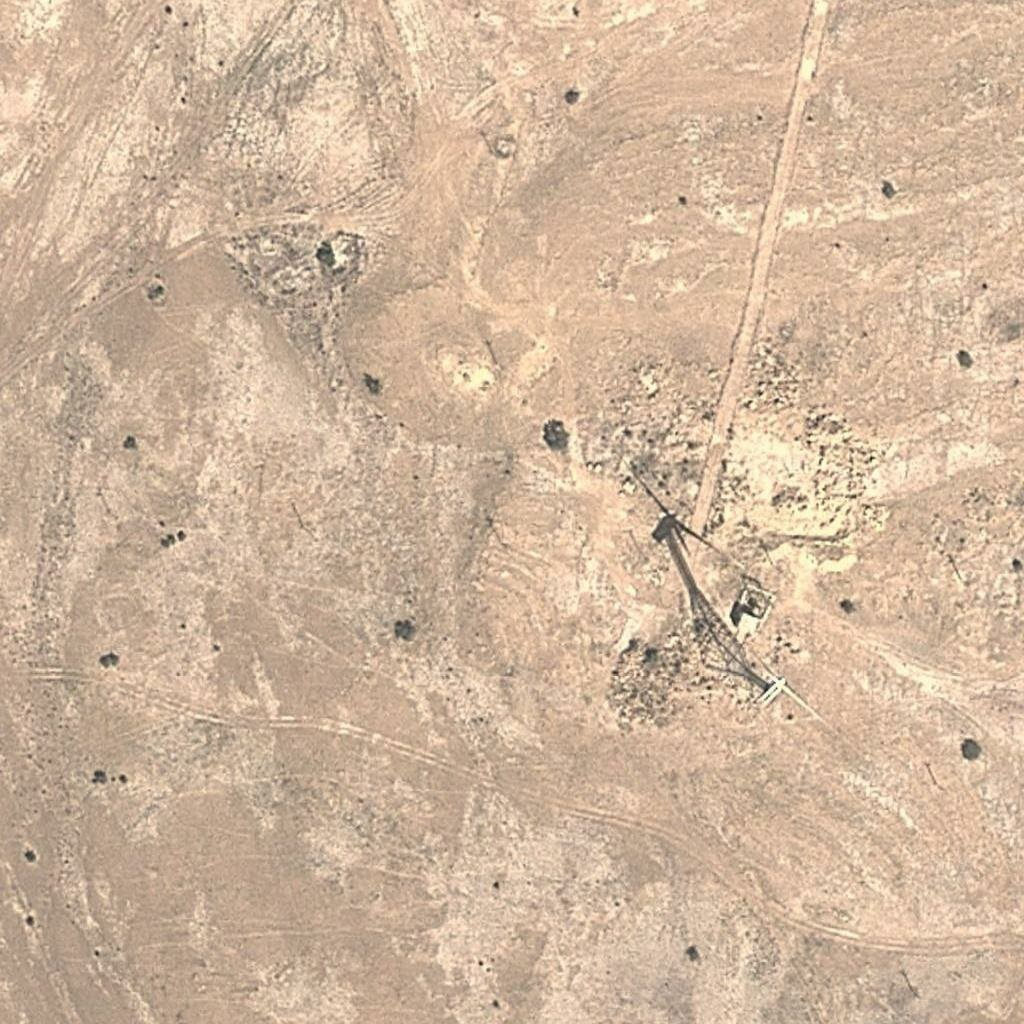Windmill: (622, 461, 756, 657)
